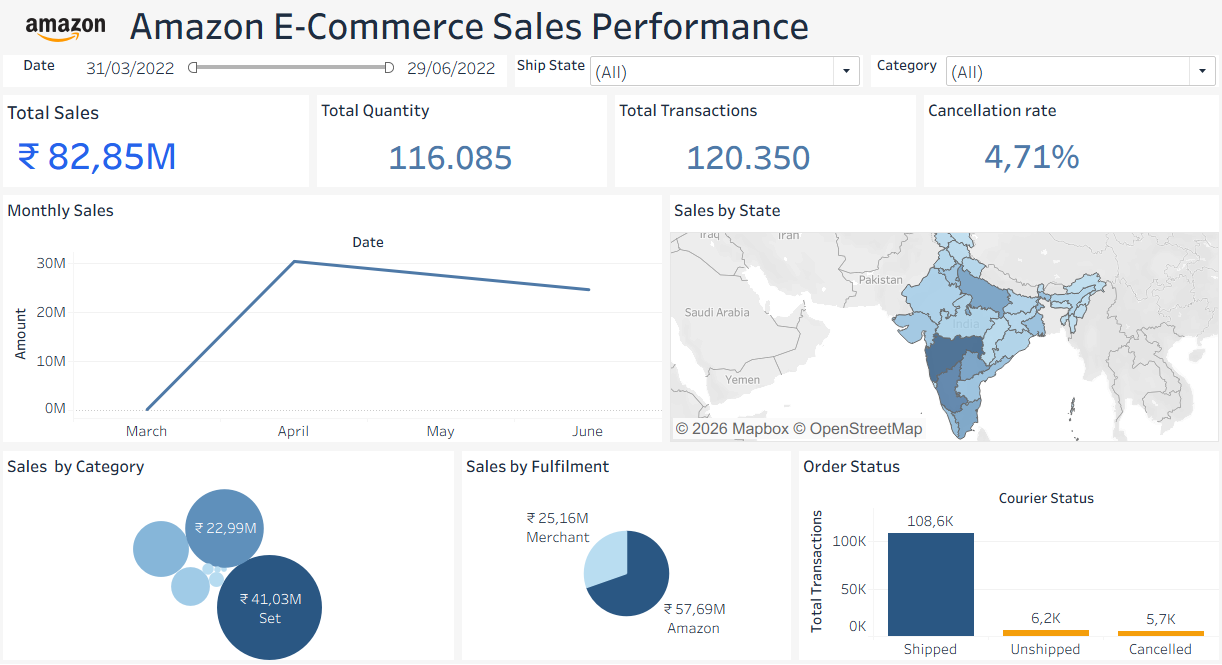

Layout of this report page (visuals, bound fields, positions):
{"tool":"tableau","page":{"name":"Dashboard","canvas":[1240,680],"ordinal":0},"visuals":[{"type":"text","box":[133.9,14.4,720.4,37.4]},{"type":"image","box":[35,26,82,24]},{"type":"filter","title":"Monthly Sales","param":"[federated.0vw2sgc17hl51m165o79s02zulyl].[none:date:qk]","box":[8,58.9,512.5,40.3]},{"type":"filter","title":"Sales by State","param":"[federated.0vw2sgc17hl51m165o79s02zulyl].[none:ship_state:nk]","box":[520.5,58.9,355.8,40.3]},{"type":"filter","title":"Sales  by Category","param":"[federated.0vw2sgc17hl51m165o79s02zulyl].[none:category:nk]","box":[876.2,58.9,355.8,40.3]},{"type":"worksheet","title":"KPI_totalSales","mark":"Text","box":[8,99.2,314.5,100.1]},{"type":"worksheet","title":"KPI_totalQuantity","mark":"Text","box":[322.5,99.2,297.5,100.1]},{"type":"worksheet","title":"KPI_totalTransactions","mark":"Text","box":[620,99.2,309.1,100.1]},{"type":"worksheet","title":"KPI_cancellationRate","mark":"Automatic","box":[929,99.2,303,100.1]},{"type":"worksheet","title":"Monthly Sales","mark":"Automatic","rows":["amount"],"cols":["date"],"box":[8,199.3,666.8,255.4]},{"type":"worksheet","title":"Sales by State","mark":"Automatic","box":[674.8,199.3,557.2,255.4]},{"type":"worksheet","title":"Sales  by Category","mark":"Circle","box":[8,454.7,459,217.3]},{"type":"worksheet","title":"Sales by Fulfilment","mark":"Pie","box":[467,454.7,337,217.3]},{"type":"worksheet","title":"Order by Courier Status","mark":"Automatic","rows":["order_id"],"cols":["courier_status"],"box":[804,454.7,428,217.3]}]}

Visuals, with their boxes in screenshot pixels (x1, y1, x2, y2), scaled from the page's 1240x680 canvas onto the 1222x665 screenshot:
text: BBox(132, 14, 842, 51)
image: BBox(34, 25, 115, 49)
"Monthly Sales" filter: BBox(8, 58, 513, 97)
"Sales by State" filter: BBox(513, 58, 864, 97)
"Sales  by Category" filter: BBox(863, 58, 1214, 97)
"KPI_totalSales" worksheet (Text marks): BBox(8, 97, 318, 195)
"KPI_totalQuantity" worksheet (Text marks): BBox(318, 97, 611, 195)
"KPI_totalTransactions" worksheet (Text marks): BBox(611, 97, 916, 195)
"KPI_cancellationRate" worksheet: BBox(916, 97, 1214, 195)
"Monthly Sales" worksheet: BBox(8, 195, 665, 445)
"Sales by State" worksheet: BBox(665, 195, 1214, 445)
"Sales  by Category" worksheet (Circle marks): BBox(8, 445, 460, 657)
"Sales by Fulfilment" worksheet (Pie marks): BBox(460, 445, 792, 657)
"Order by Courier Status" worksheet: BBox(792, 445, 1214, 657)
